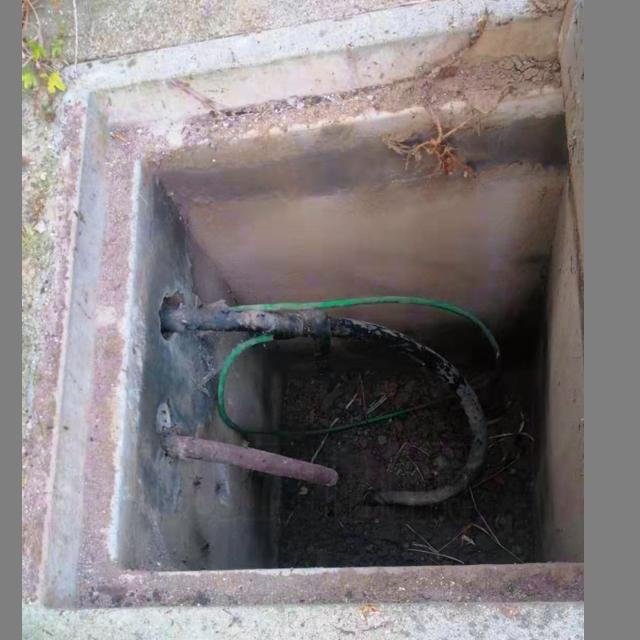lose: (41, 47, 584, 640)
